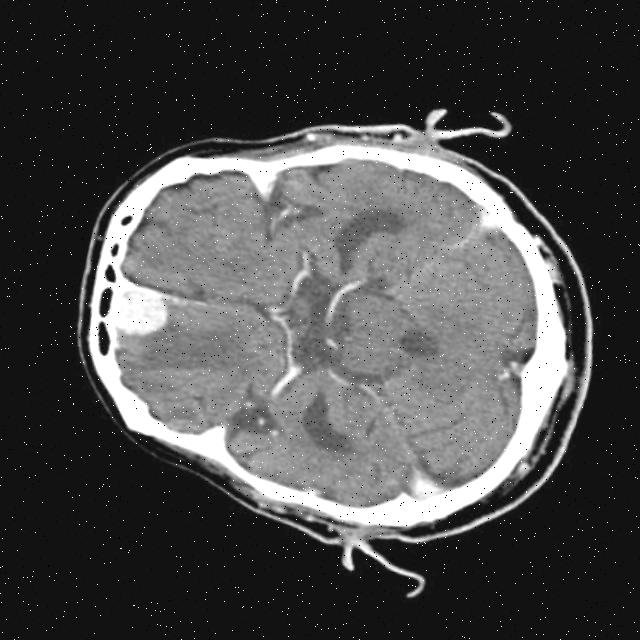Meningioma: (105, 274, 175, 344)
